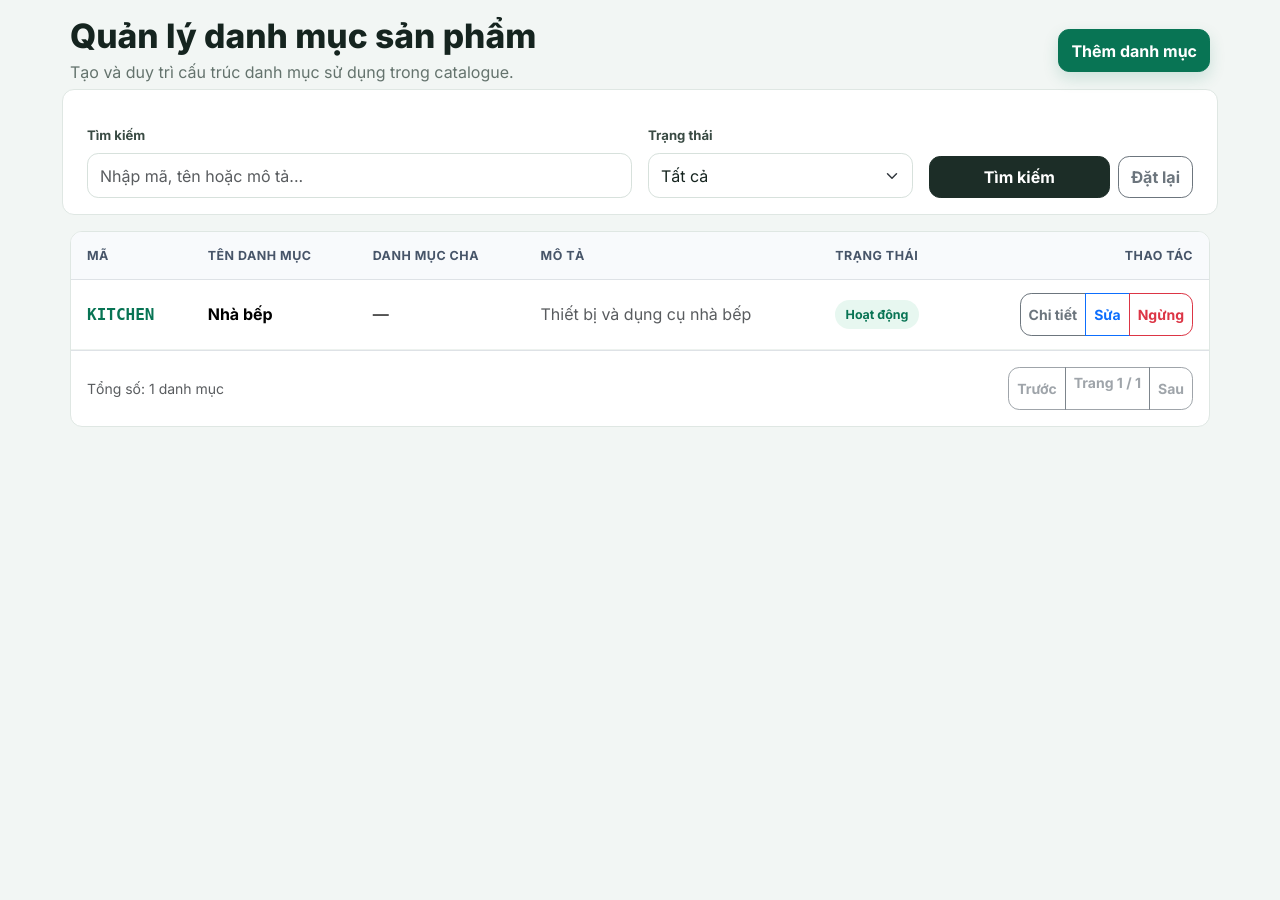
Test case: CategoriesPage (UC-11 Manage Product Categories) › loads details and deactivates without deleting history
The width and height of the screenshot is (1280, 900).
Check: the text "KITCHEN" is shown, box [87,305,154,324]
Click the button "Chi tiết" at (1053,315), box [1020,293,1086,336]
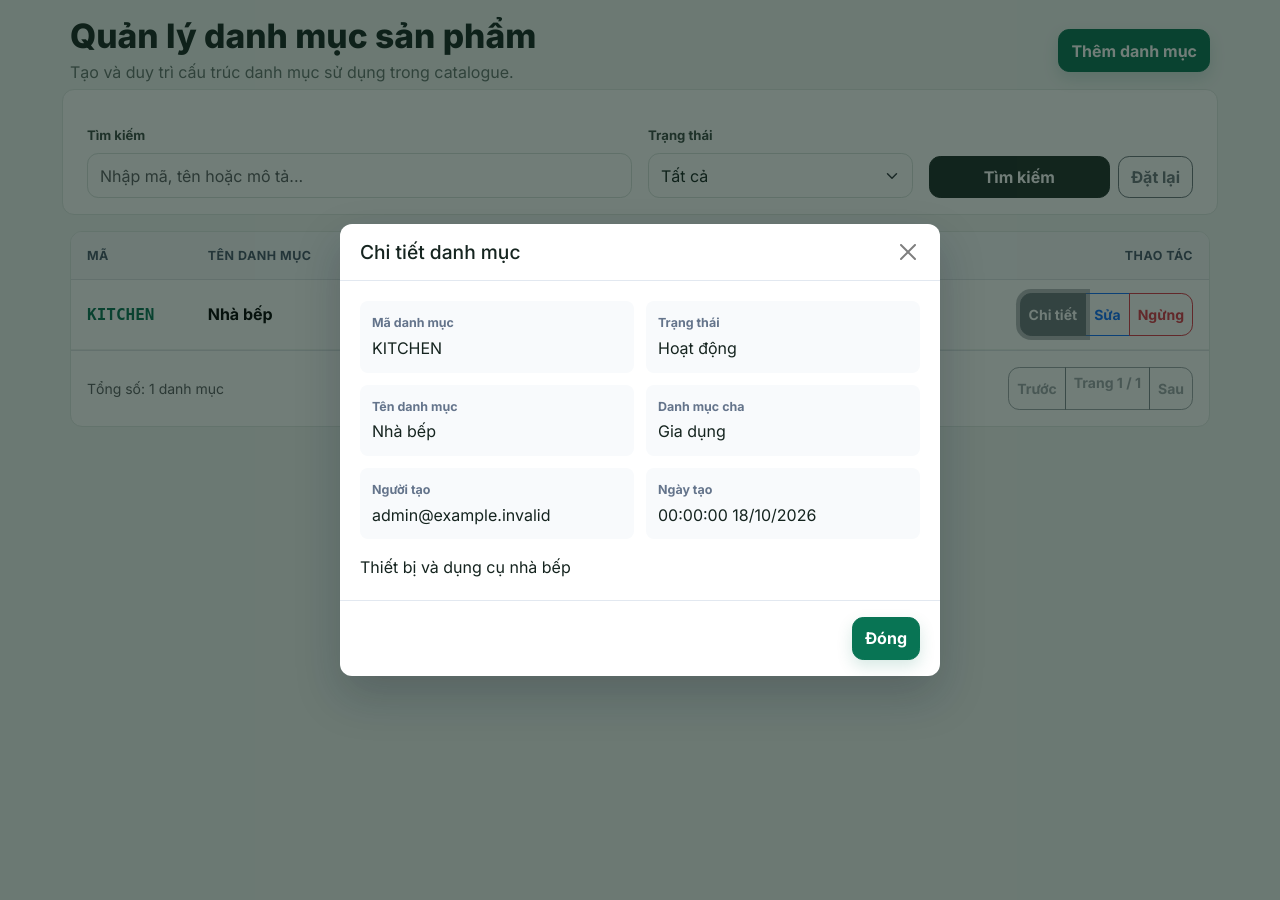
Check: the text "Gia dụng" is shown, box [658,421,726,441]
Click the button "Đóng" at (886,638), box [852,617,920,660]
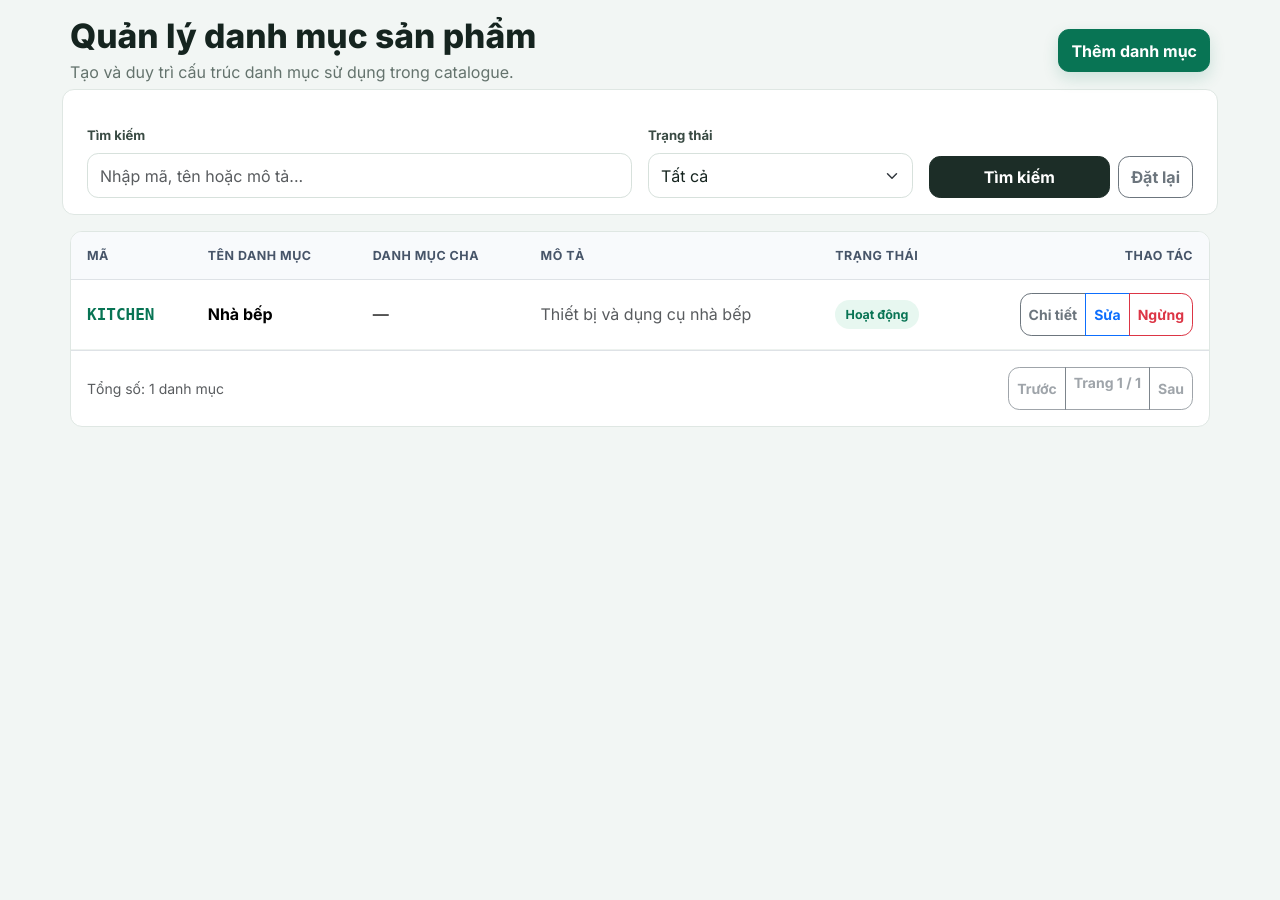
Click the button "Ngừng" at (1161,315), box [1129,293,1193,336]
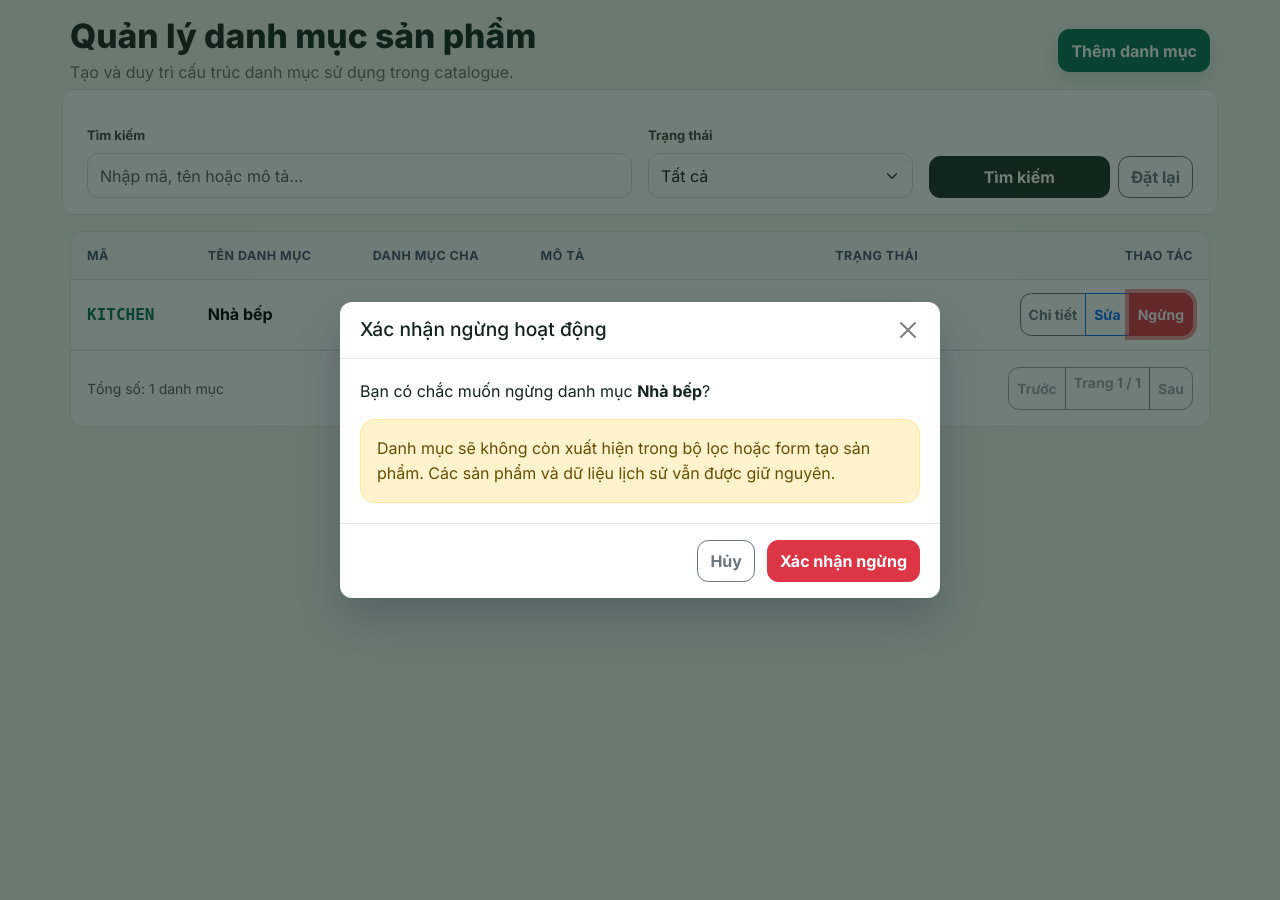
Click the button "Xác nhận ngừng" at (843,561), box [767,540,920,582]
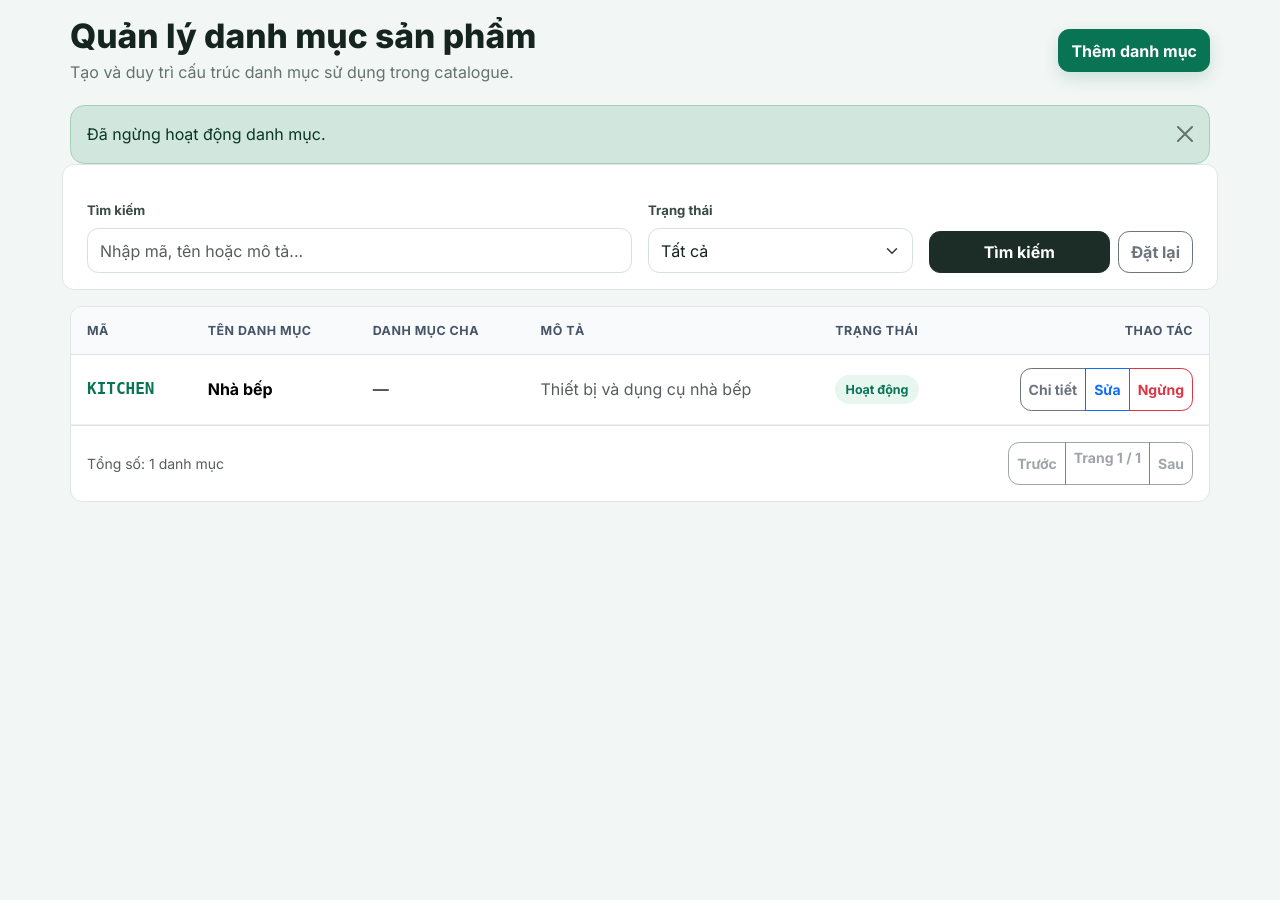
Check: the text "Đã ngừng hoạt động danh mục." is shown, box [70,105,1210,164]
